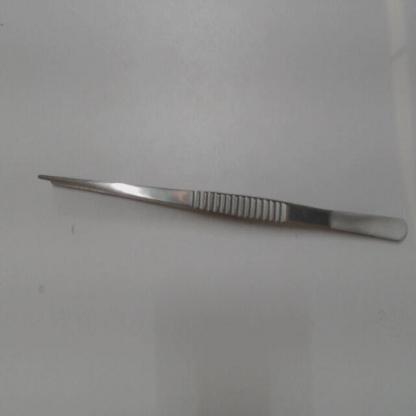DeBakey Dissector: (28, 165, 410, 252)
